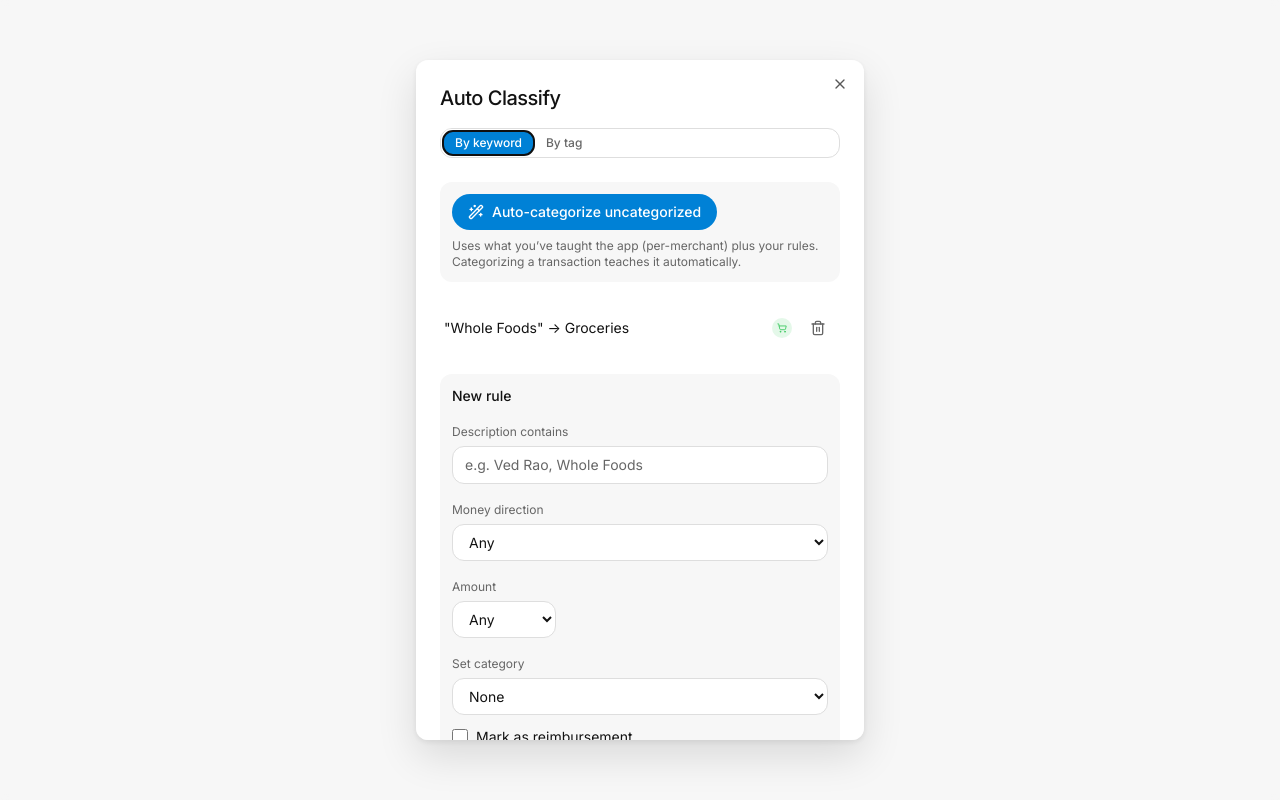
Test case: <ManageRulesDialog> › switches to the By tag tab and lists existing tag rules
Click the button "By tag" at (564, 143), box left=534, top=131, right=594, bottom=155
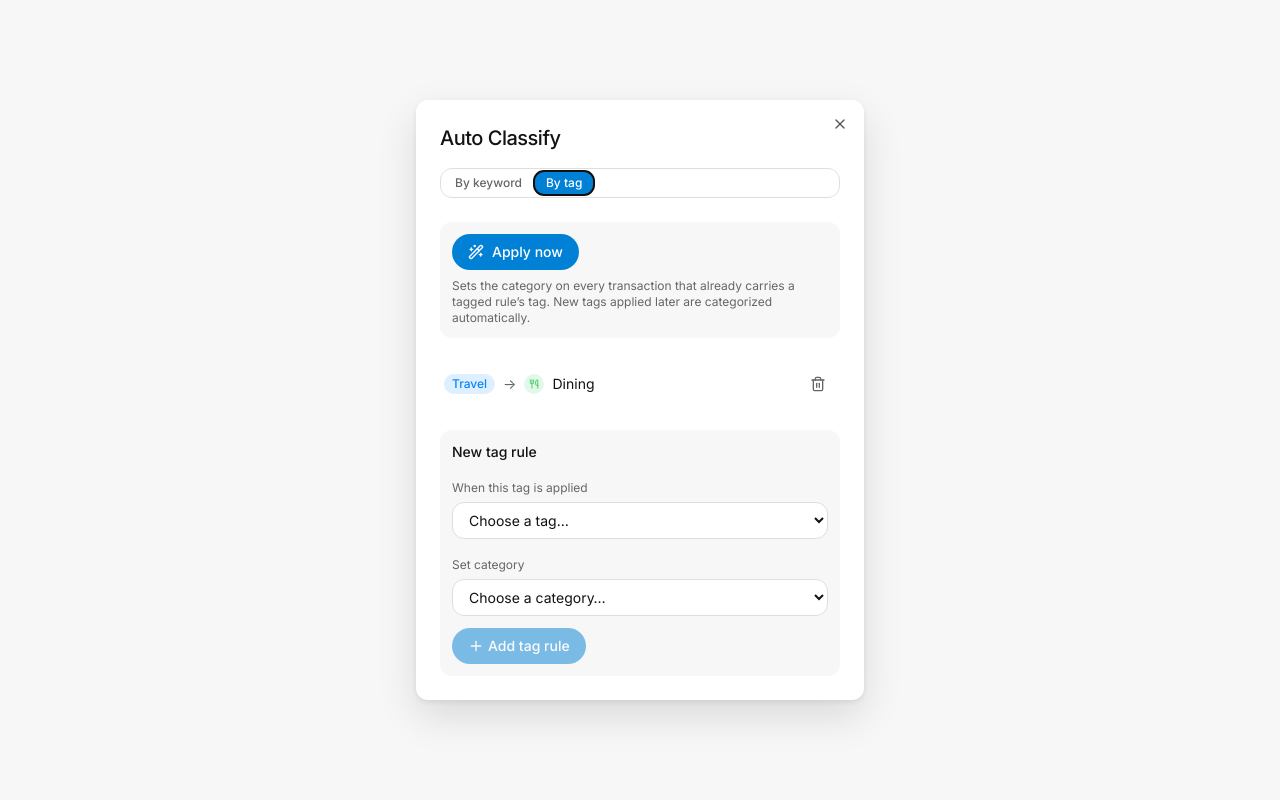
expect the button named "Delete tag rule for Travel" is shown: met, box left=800, top=366, right=836, bottom=402
